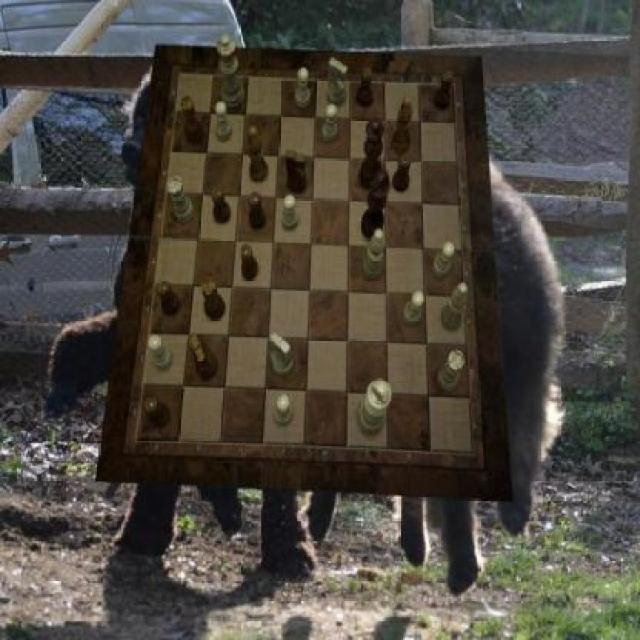bishop: (392, 95, 413, 154), (248, 125, 268, 182)
black-bishop: (362, 168, 392, 240)
black-king: (191, 334, 218, 379), (285, 150, 307, 194)
black-knight: (144, 397, 170, 429), (157, 280, 180, 316), (434, 71, 454, 111), (240, 243, 259, 281), (211, 188, 231, 224), (249, 191, 266, 229), (394, 155, 411, 193), (357, 68, 372, 108)
black-pawn: (360, 117, 386, 191)
black-queen: (182, 96, 204, 144), (202, 277, 226, 319)
black-rook: (442, 283, 468, 331), (361, 228, 384, 280)
white-bishop: (358, 378, 392, 434)
white-king: (270, 334, 294, 378), (328, 59, 348, 106)
white-knight: (432, 242, 456, 279), (148, 336, 172, 372), (403, 291, 425, 325), (216, 103, 232, 143), (295, 68, 311, 108), (283, 196, 300, 232), (274, 394, 293, 426), (321, 105, 337, 143)
white-pawn: (217, 34, 245, 108)
white-queen: (168, 177, 194, 223), (437, 351, 464, 392)
